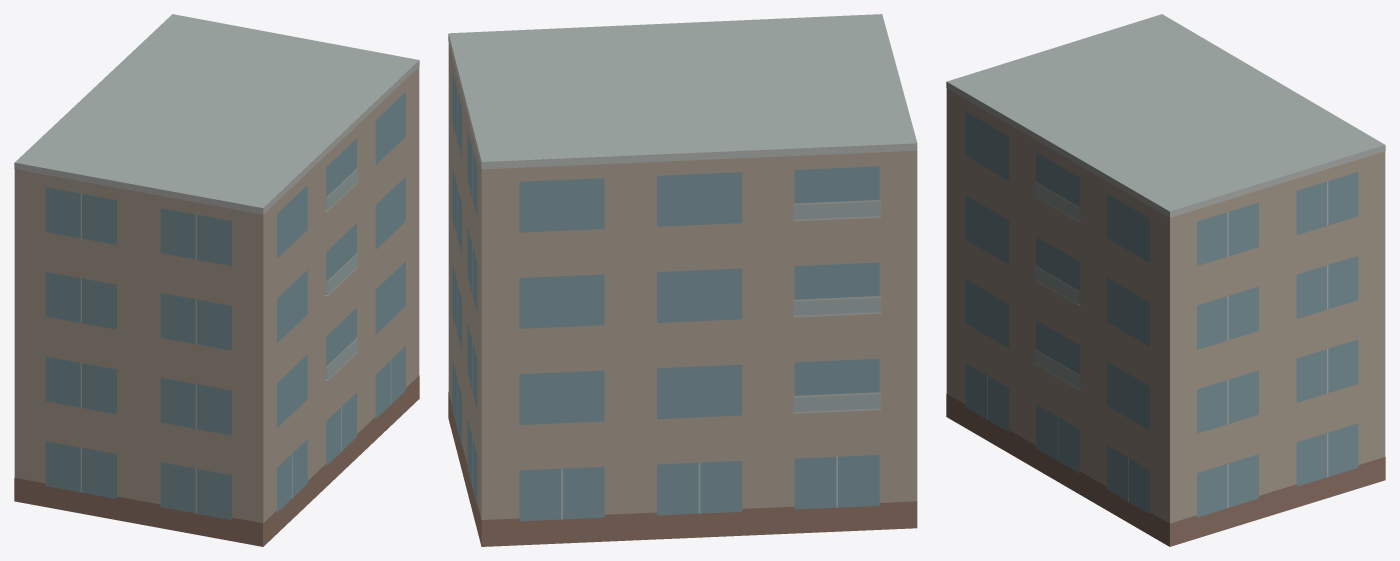
The model's file is survey-upis-32719398.glb.
3 views of the same model, side by side, from view 1: azimuth 30°, elevation 25°; view 2: azimuth 150°, elevation 25°; view 3: azimuth 270°, elevation 25° (orthographic). The views are drawn at different scales.
Visible parts, largest first — view 1: survey-upis-32719398.tmp; view 2: survey-upis-32719398.tmp; view 3: survey-upis-32719398.tmp.
Boxes of the visible parts, x1,y1,x2,y2 form: survey-upis-32719398.tmp: [14, 14, 419, 546]; survey-upis-32719398.tmp: [448, 14, 917, 546]; survey-upis-32719398.tmp: [946, 14, 1385, 546].
Bounding box in the file's own units: 16.18 × 12.8 × 15.19.
